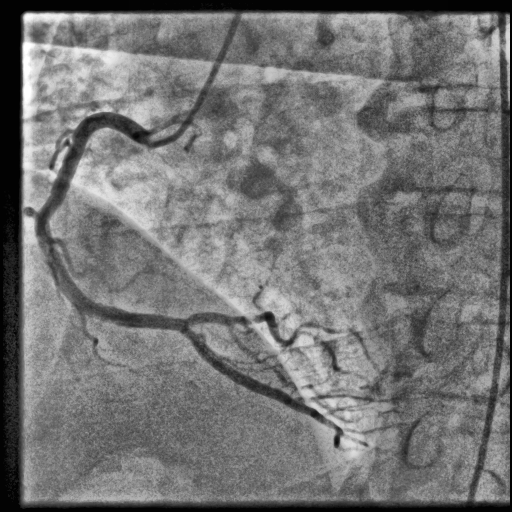pborca: (185, 311, 369, 360)
pda: (180, 327, 344, 450)
rca: (34, 112, 188, 332)
